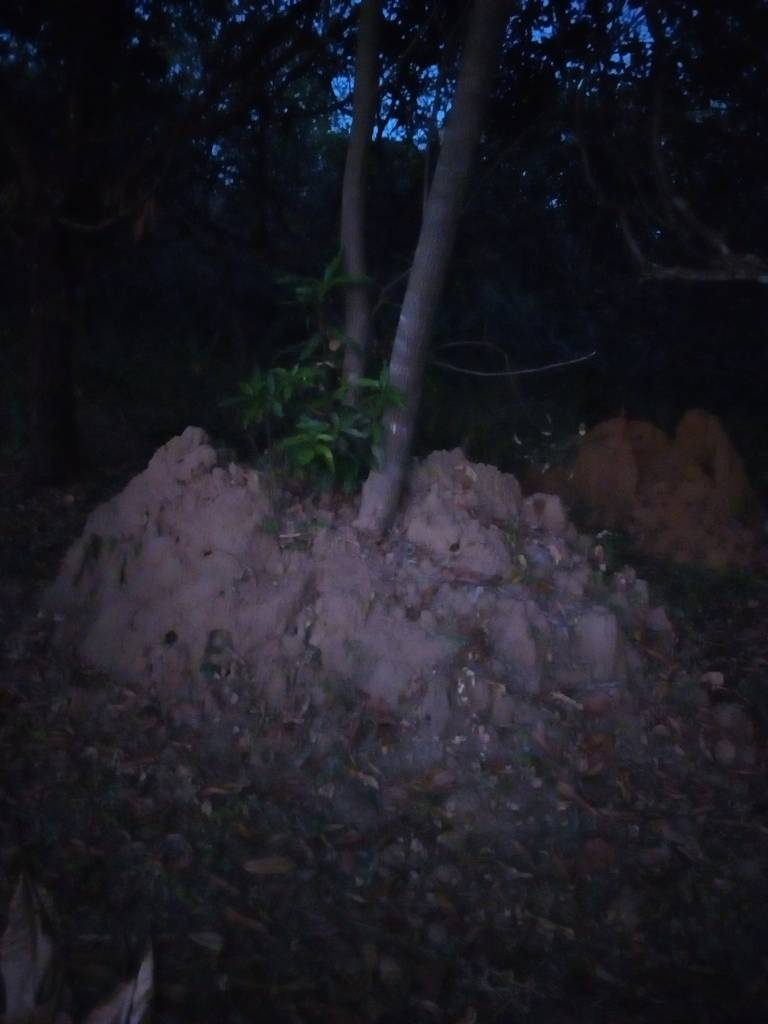Termites: (90, 475, 586, 739), (597, 413, 749, 544)
